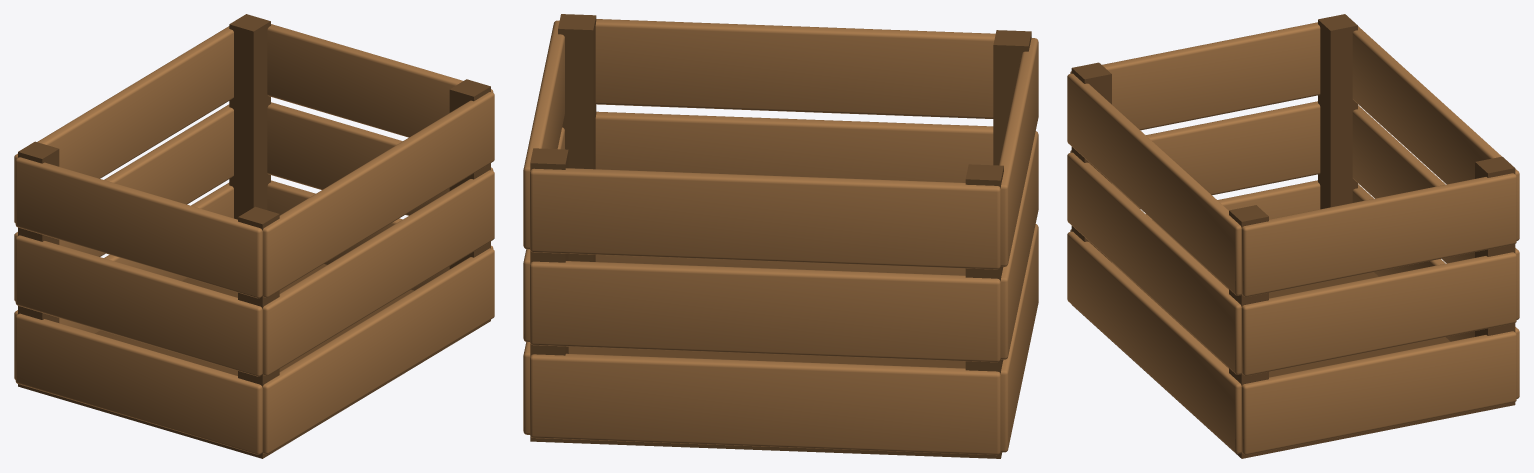
3 views of the same model, side by side, from view 1: azimuth 30°, elevation 25°; view 2: azimuth 150°, elevation 25°; view 3: azimuth 270°, elevation 25° (orthographic). The views are drawn at different scales.
Parts seen in each view (by area): view 1: Box; view 2: Box; view 3: Box.
Boxes of the visible parts, <box> form: Box: <box>14,14,494,458</box>; Box: <box>523,14,1038,458</box>; Box: <box>1067,14,1519,458</box>.
Bounding box in the file's own units: 1 × 0.9029 × 0.5219.
